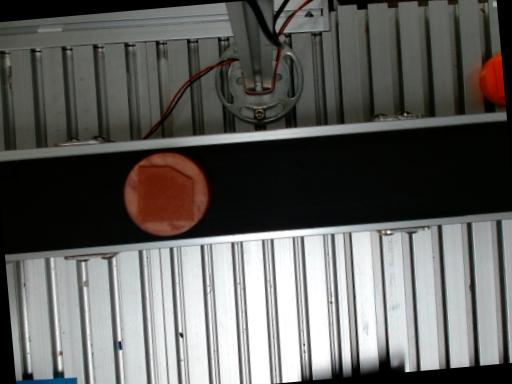Brown_Waper: (123, 152, 209, 236)
Not_Square: (137, 165, 194, 223)
